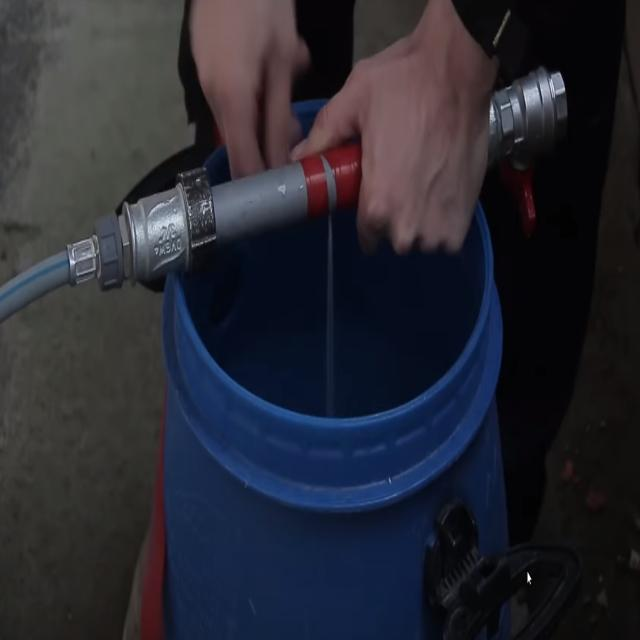leak: (326, 211, 333, 420)
